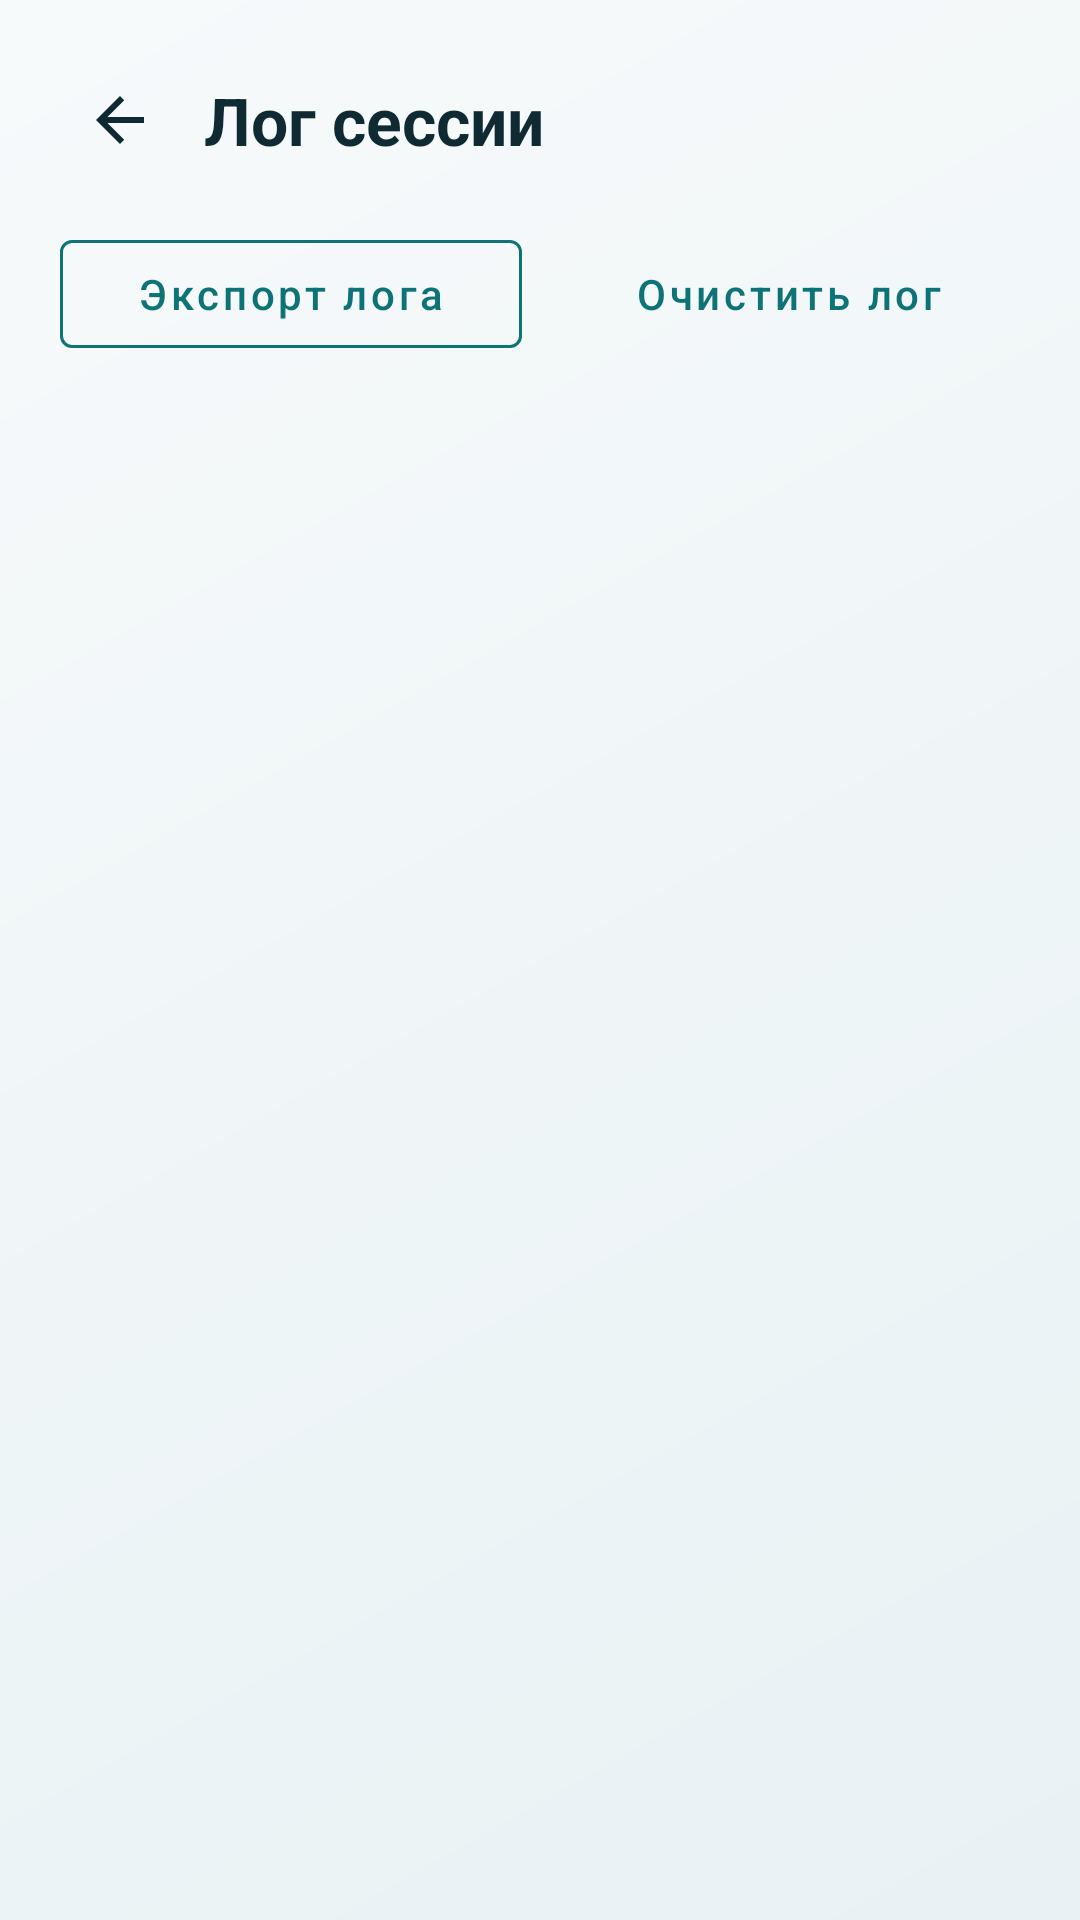

Icon click points for this 1080px x 1920px phone screenshot, format [x,y]:
Назад: [120,120]
